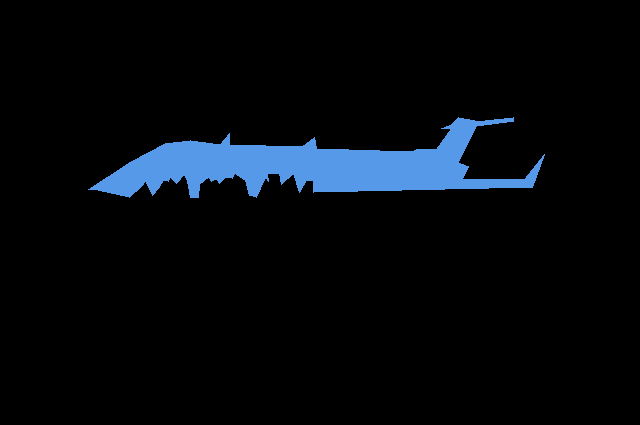Airplane: (88, 117, 544, 198)
